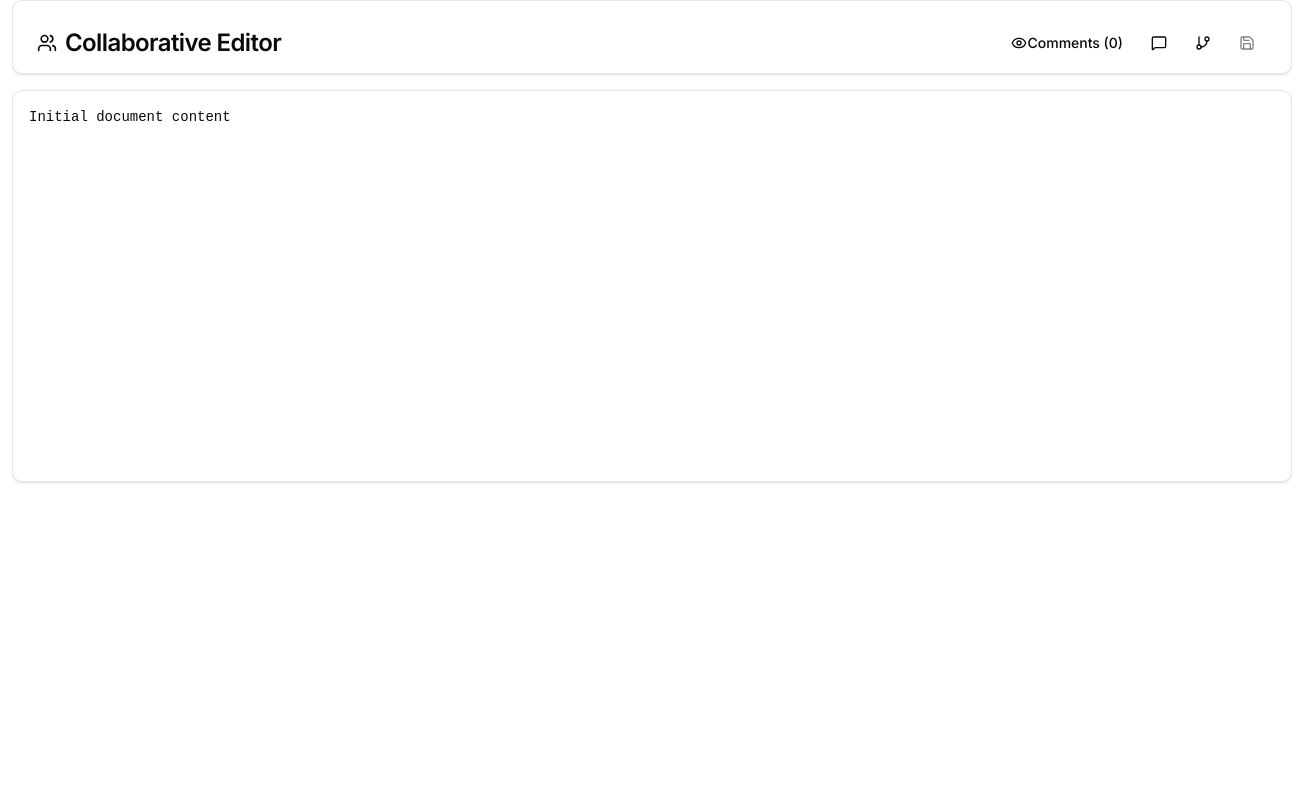
Test case: CollaborativeEditor › shows unsaved changes indicator
The image size is (1304, 800).
Type " modified" into the text box showing "Initial document content" at [652, 283], box [13,91,1291,475]
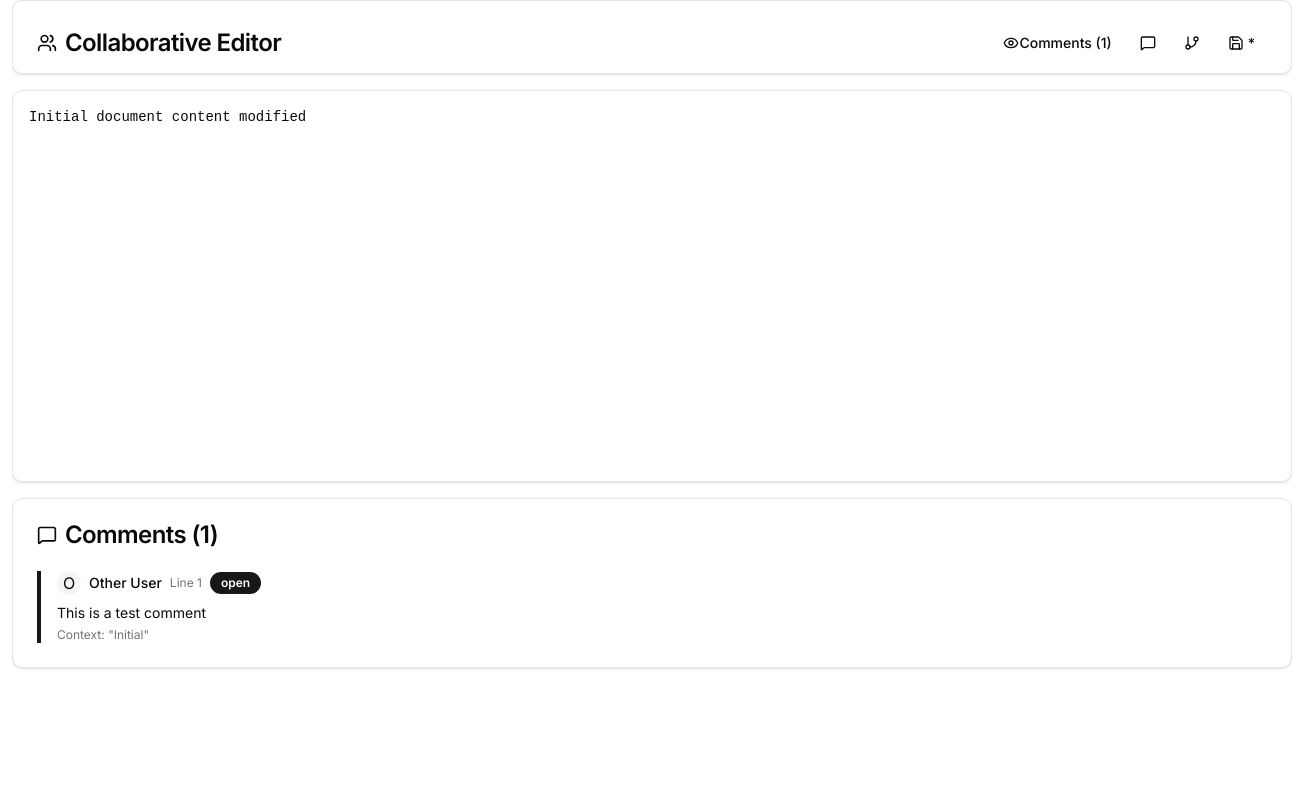
Check: the text "*" is shown, box [1248,33,1255,53]
